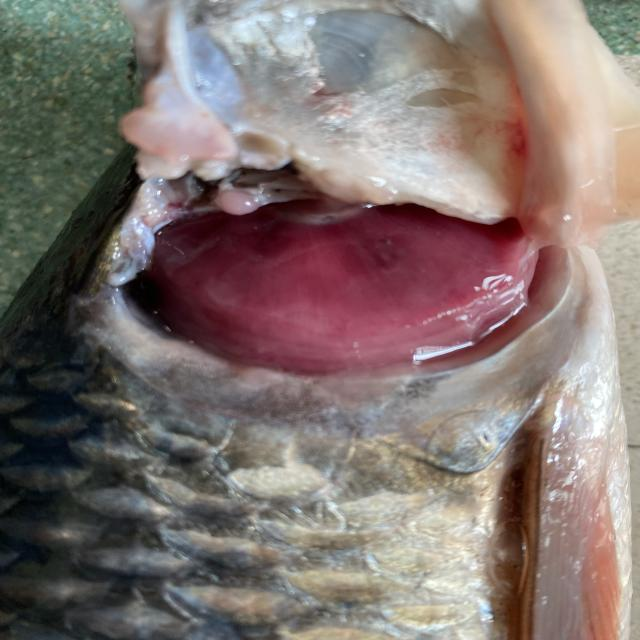Fresh: (89, 132, 617, 408)
